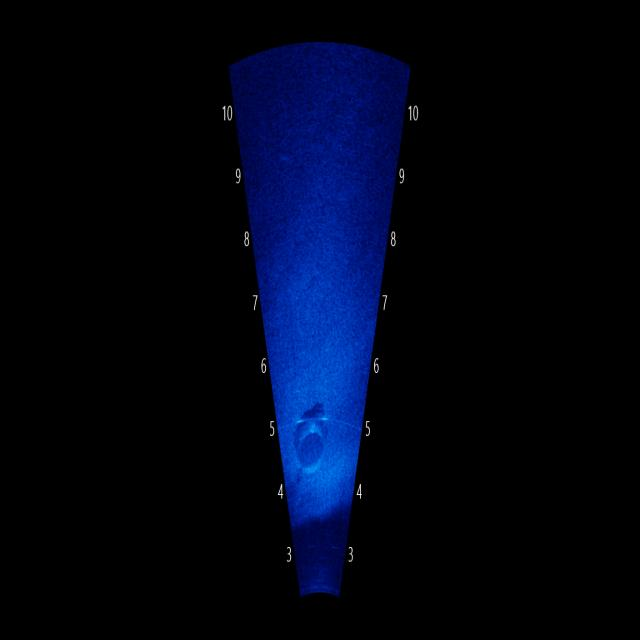circle: (290, 382, 342, 491)
